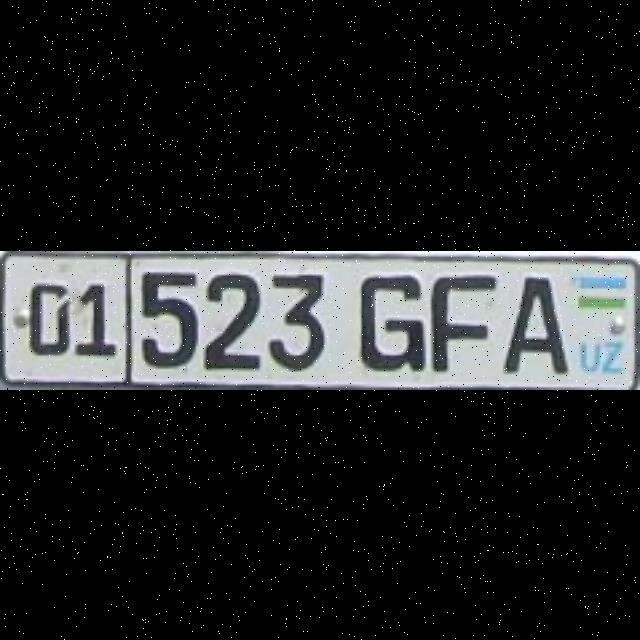0: (24, 280, 68, 352)
1: (72, 280, 112, 352)
2: (201, 269, 257, 365)
3: (268, 268, 322, 368)
5: (139, 269, 195, 365)
A: (501, 274, 565, 370)
F: (429, 272, 493, 368)
G: (356, 272, 424, 368)
